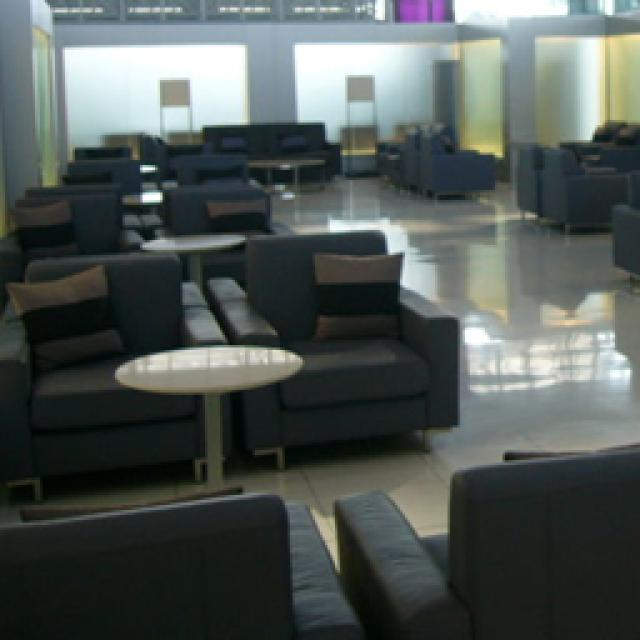armchair crop: (200, 225, 458, 462), (420, 135, 490, 198)
armchair occluded: (330, 440, 638, 632), (0, 482, 360, 632)
armchair of dentist: (2, 245, 230, 482), (145, 175, 290, 270), (2, 190, 142, 275), (515, 145, 625, 228), (555, 118, 635, 165)
cushion occluded: (2, 262, 125, 365), (308, 248, 398, 335)
floor -X: (0, 140, 638, 637)
sofa: (198, 120, 340, 178)
table -X: (112, 342, 298, 488)
table runner: (140, 228, 248, 280), (240, 150, 320, 192)
wall clock: (48, 0, 637, 168)
